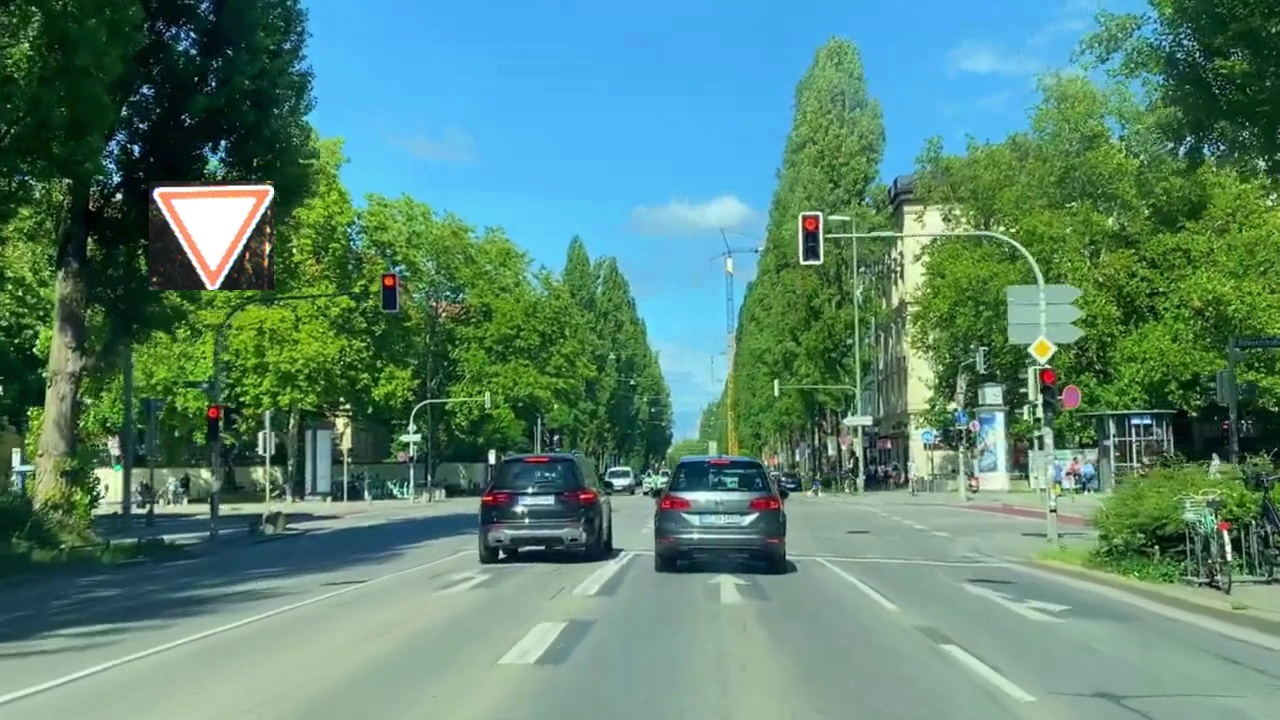Yield: (149, 181, 274, 290)
